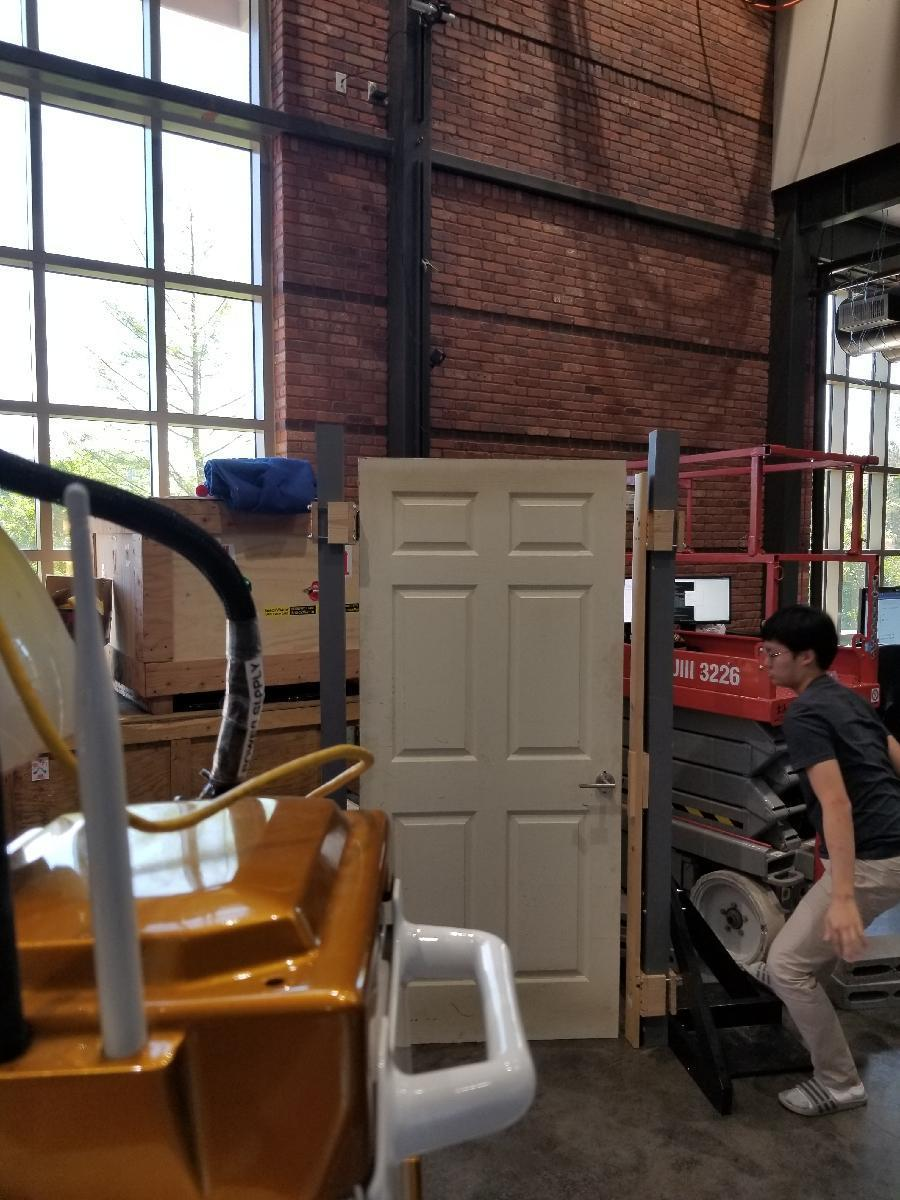door: (356, 456, 625, 1046)
handle: (576, 770, 619, 798)
